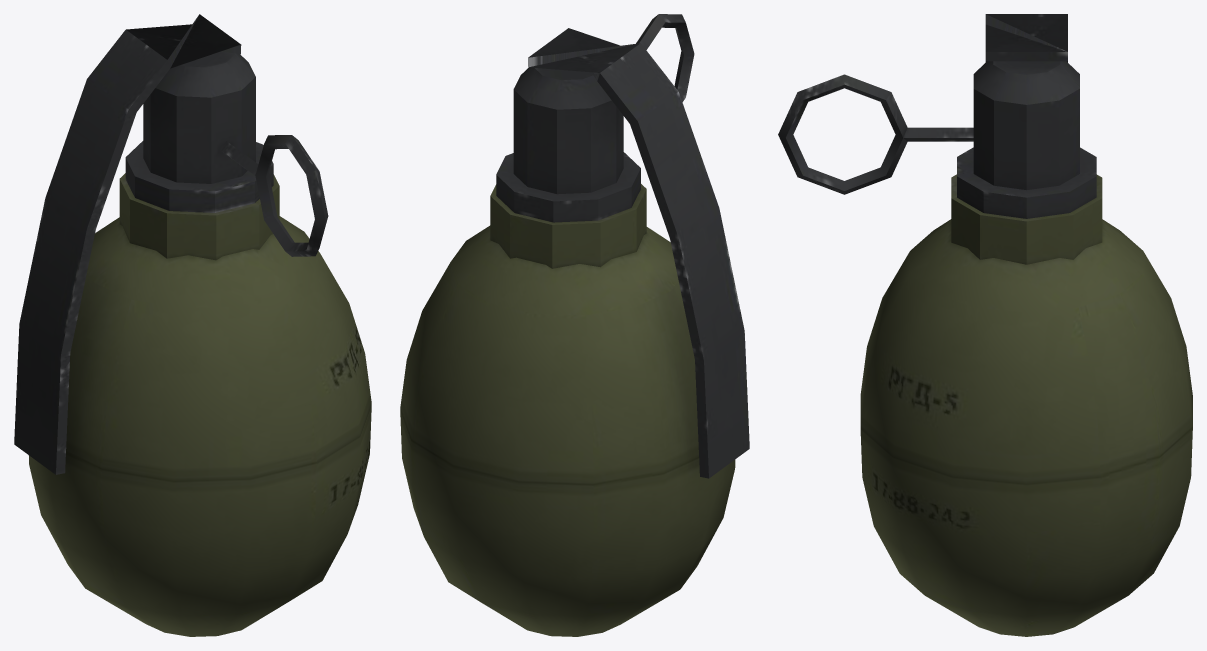
The model's file is grenade_rgd5.glb.
3 views of the same model, side by side, from view 1: azimuth 30°, elevation 25°; view 2: azimuth 150°, elevation 25°; view 3: azimuth 270°, elevation 25° (orthographic). The views are drawn at different scales.
Visible parts, largest first — view 1: grenade_rgd5_mesh; view 2: grenade_rgd5_mesh; view 3: grenade_rgd5_mesh.
Boxes of the visible parts, x1,y1,x2,y2 form: grenade_rgd5_mesh: [14, 14, 371, 636]; grenade_rgd5_mesh: [400, 14, 749, 636]; grenade_rgd5_mesh: [778, 14, 1192, 636].
Size of what is drawn, in the model's own units: 0.0609 by 0.1089 by 0.0706.
Materials: 1 (1 with a texture image).
